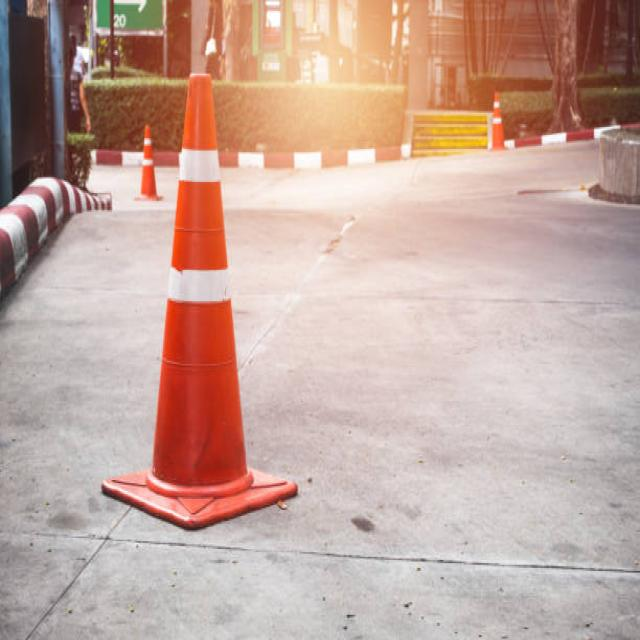Traffic Cone: (91, 31, 308, 537), (123, 117, 169, 218)
